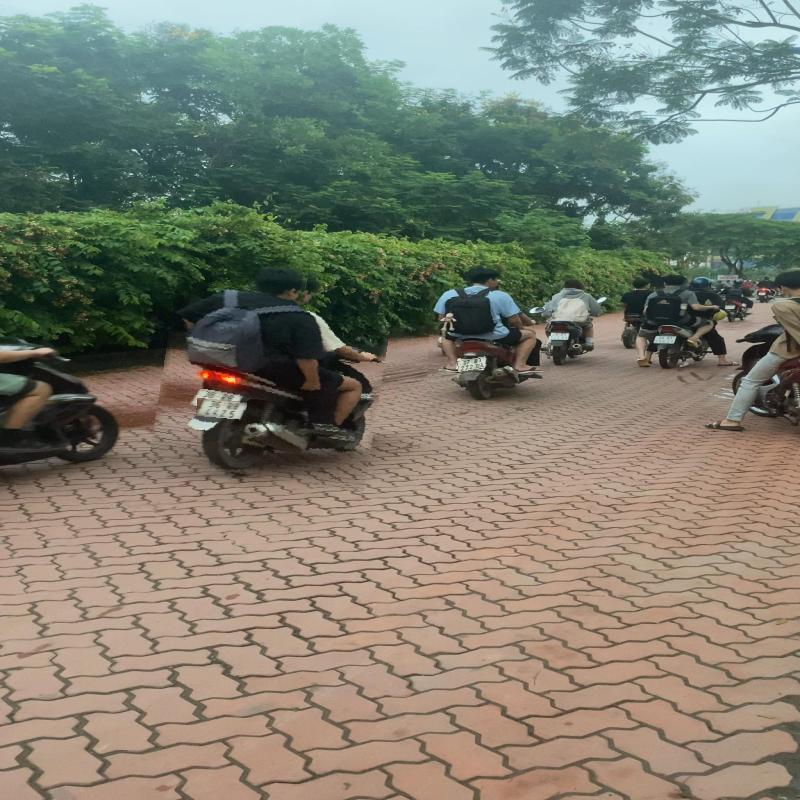licenseplate: (196, 398, 246, 420), (458, 358, 488, 372)
motorcyclist: (157, 258, 390, 486), (428, 264, 552, 401)
nohelmet: (250, 266, 307, 300), (466, 266, 499, 284)
